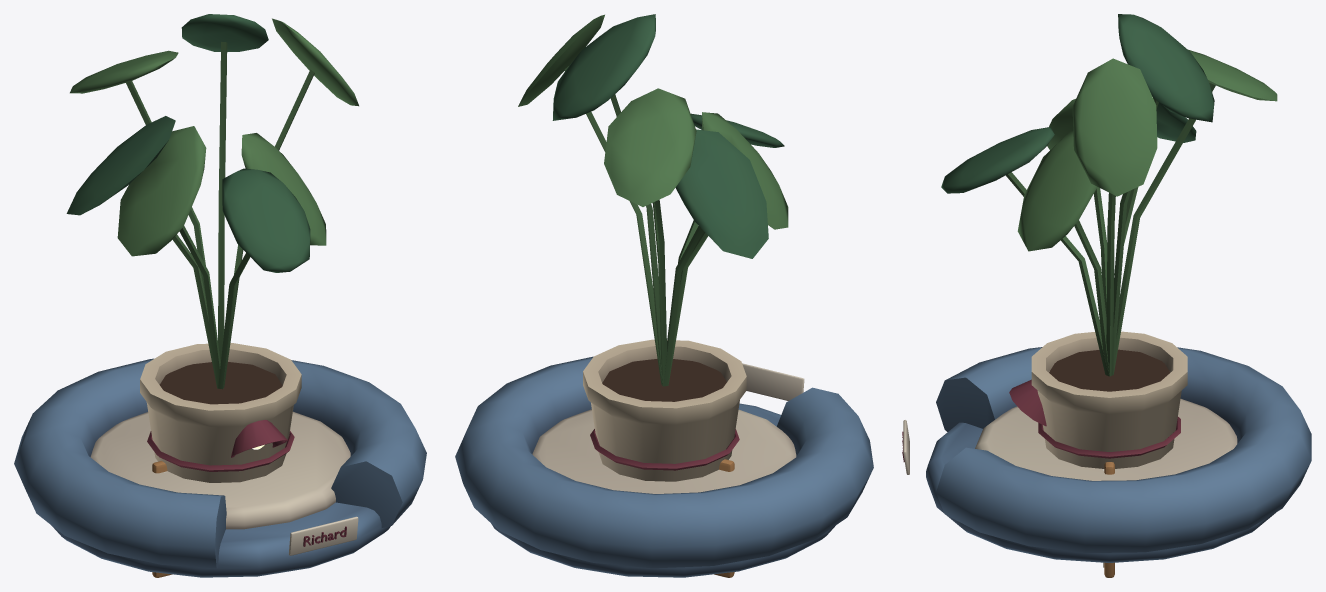
File: interior-props.glb
3 views of the same model, side by side, from view 1: azimuth 30°, elevation 25°; view 2: azimuth 150°, elevation 25°; view 3: azimuth 270°, elevation 25° (orthographic). The views are drawn at different scales.
Visible parts, largest first — view 1: DogBed, PlantTall, DeskLamp; view 2: DogBed, PlantTall; view 3: DogBed, PlantTall, DeskLamp.
Part boxes in pixels (left/top/right/bottom): DogBed: left=14, top=358, right=426, bottom=577; PlantTall: left=66, top=14, right=358, bottom=482; DeskLamp: left=231, top=419, right=287, bottom=457; DogBed: left=455, top=356, right=873, bottom=577; PlantTall: left=518, top=14, right=788, bottom=481; DogBed: left=902, top=347, right=1311, bottom=562; PlantTall: left=941, top=14, right=1277, bottom=468; DeskLamp: left=1009, top=379, right=1046, bottom=426.
Size of the model in its own units: 1.37 by 1.99 by 1.38.
